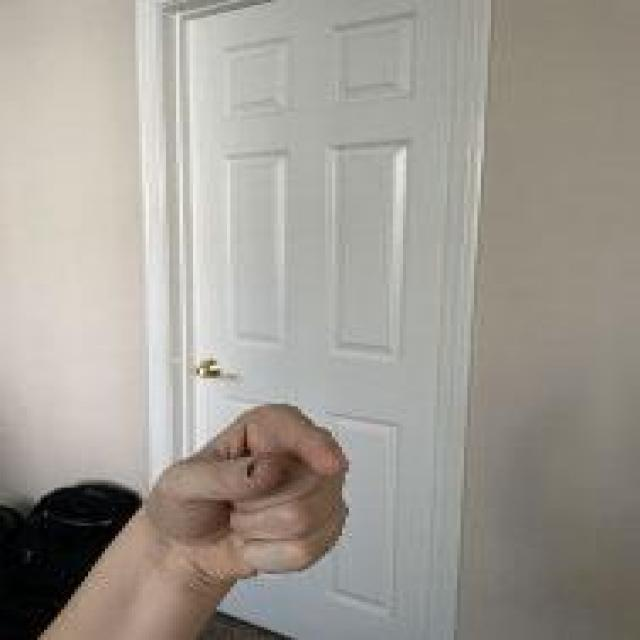G: (139, 396, 355, 589)
